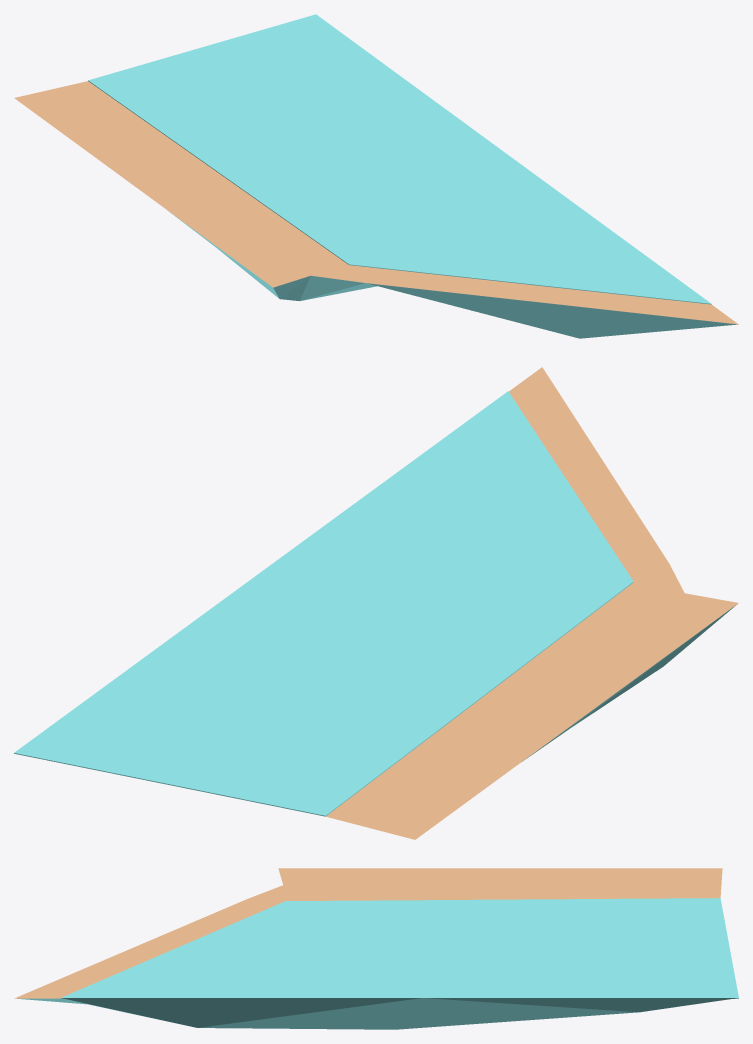
The picture shows the model from 3 angles, top to bottom: view 1: azimuth 30°, elevation 25°; view 2: azimuth 150°, elevation 25°; view 3: azimuth 270°, elevation 25°; orthographic projection. The views are drawn at different scales.
Visible parts, largest first — view 1: Object005; view 2: Object005; view 3: Object005.
Boxes of the visible parts, box(x1,y1,x2,y2) form: Object005: box(14, 14, 738, 338); Object005: box(14, 367, 738, 839); Object005: box(14, 868, 738, 1029).
Bounding box in the file's own units: 224 × 48.73 × 526.
